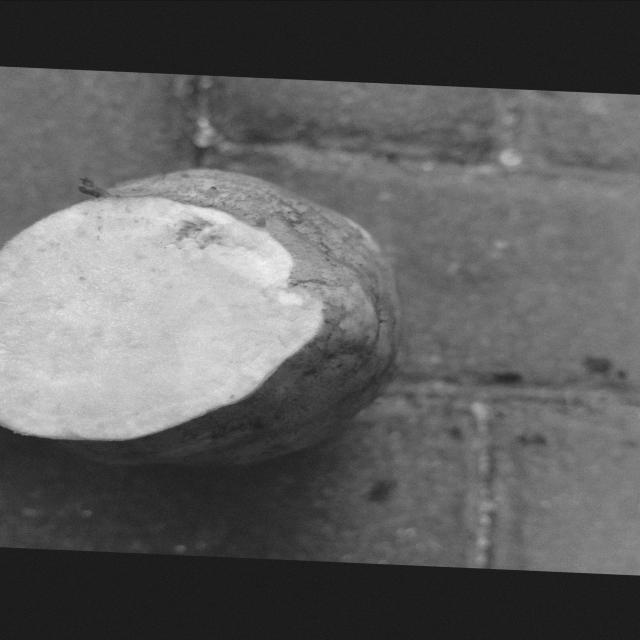Healthy Sweet Potato: (2, 196, 322, 439)
